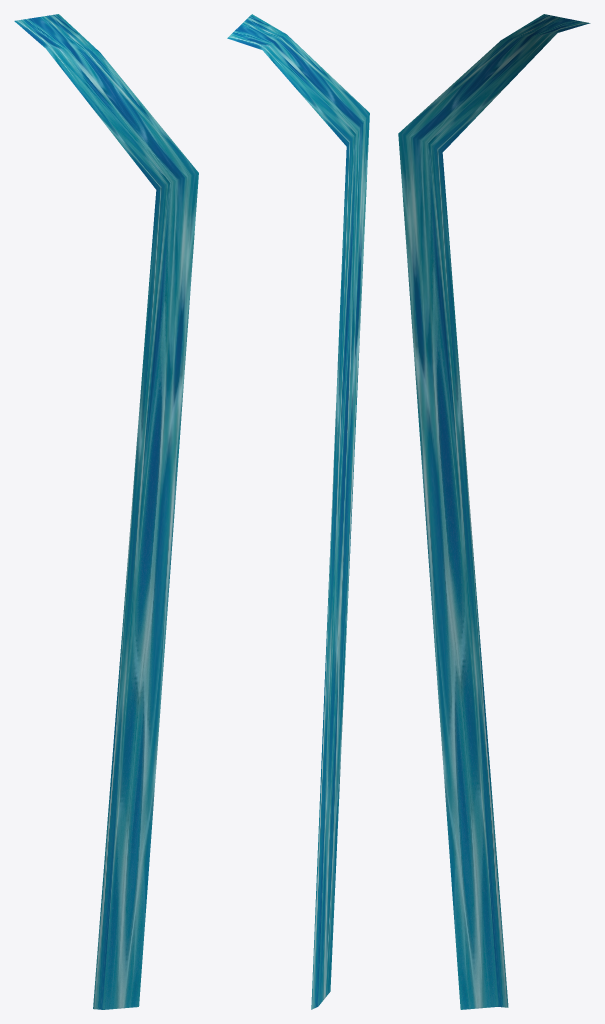
Rendered from cemian_water2.FBX.
3 renders of one model, left to right at view 1: azimuth 90°, elevation 25°; view 2: azimuth 150°, elevation 25°; view 3: azimuth 270°, elevation 25°, orthographic. The views are drawn at different scales.
Parts seen in each view (by area): view 1: Object001; view 2: Object001; view 3: Object001.
Part boxes in pixels (bbox=[...]): Object001: bbox=[14, 14, 198, 1009]; Object001: bbox=[227, 14, 369, 1009]; Object001: bbox=[398, 14, 590, 1009].
Bounding box in the file's own units: 0.2901 × 5.63 × 0.9677.
